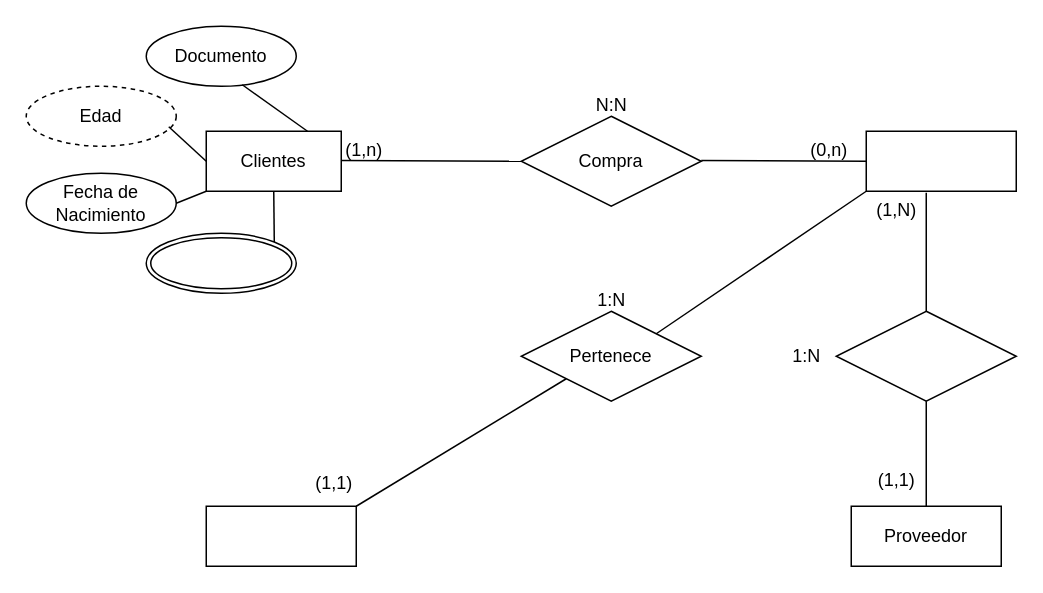
This 1043x593 diagram has some shape labels left out. Each missing label, with the box of its shape:
Categoría: (205, 505, 356, 566)
Producto: (865, 130, 1016, 191)
Provee: (835, 310, 1016, 401)
Telefono: (145, 232, 296, 293)
